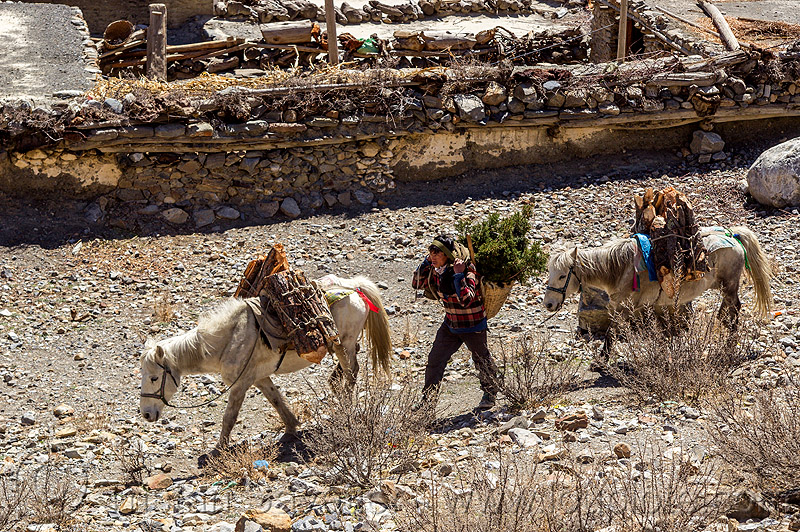human: (405, 229, 520, 414)
